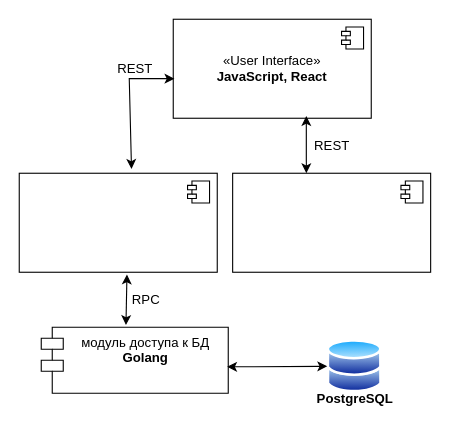
Image size: 450x435. Some labels were removed from this diagram. Here are the shapes that lost their labels. From the top down, the box of each, then its label:
(18, 172, 217, 272): «Сервис бизнес логики» Pyhton3, FastAPI
(232, 172, 431, 272): «Сервис авторизации» Python3, FastAPI
